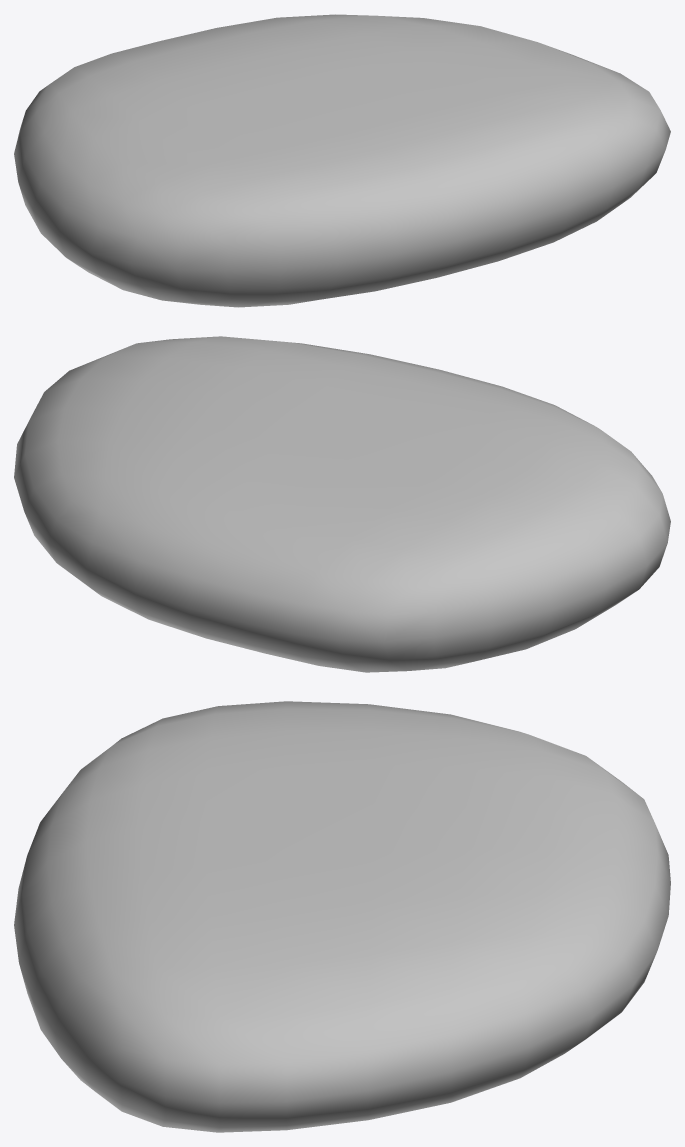
File: Farm_17_Stone_2.glb
The picture shows the model from 3 angles, top to bottom: view 1: azimuth 30°, elevation 25°; view 2: azimuth 150°, elevation 25°; view 3: azimuth 270°, elevation 25°; orthographic projection. The views are drawn at different scales.
Parts seen in each view (by area): view 1: Farm_17_Stone_2; view 2: Farm_17_Stone_2; view 3: Farm_17_Stone_2.
Boxes of the visible parts, x1,y1,x2,y2 form: Farm_17_Stone_2: (14, 14, 670, 307); Farm_17_Stone_2: (14, 336, 670, 672); Farm_17_Stone_2: (14, 701, 670, 1132).
Size of the model in its own units: 1.55 by 0.3265 by 1.18.
1 material, 1 textured.
